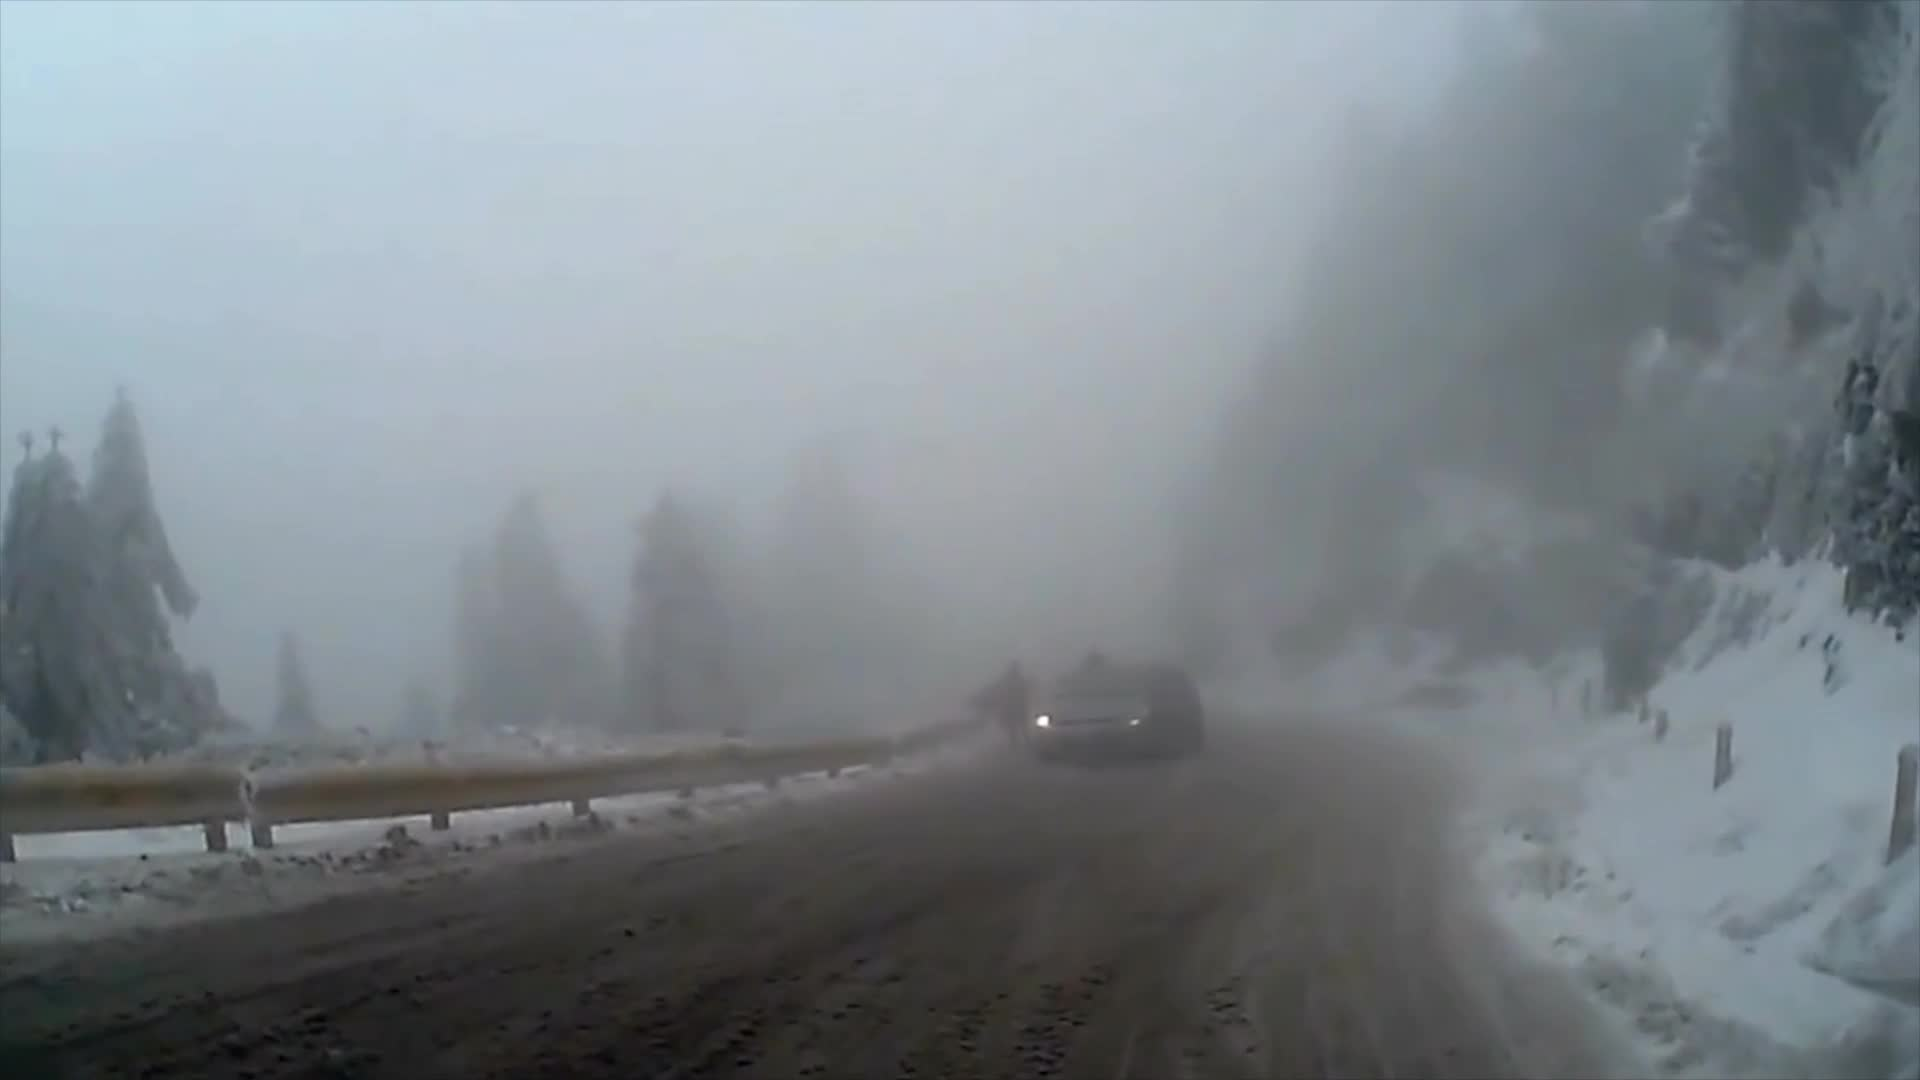vehicle: (1029, 658, 1207, 767)
